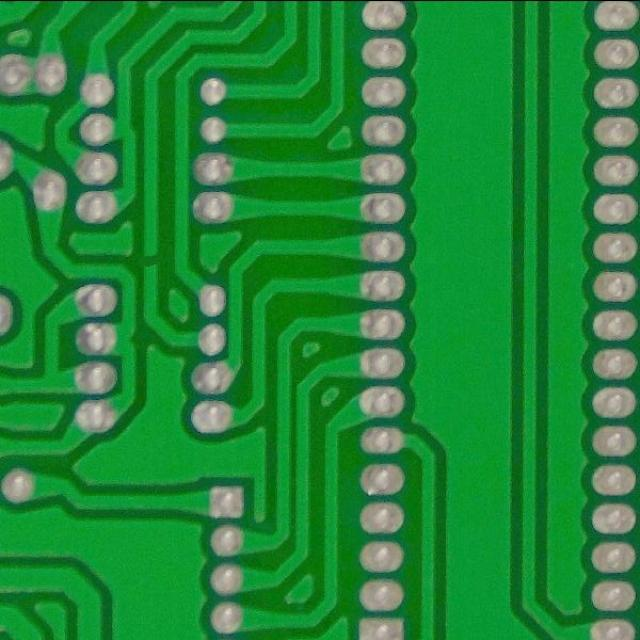Open_Circuit: (134, 242, 168, 279)
